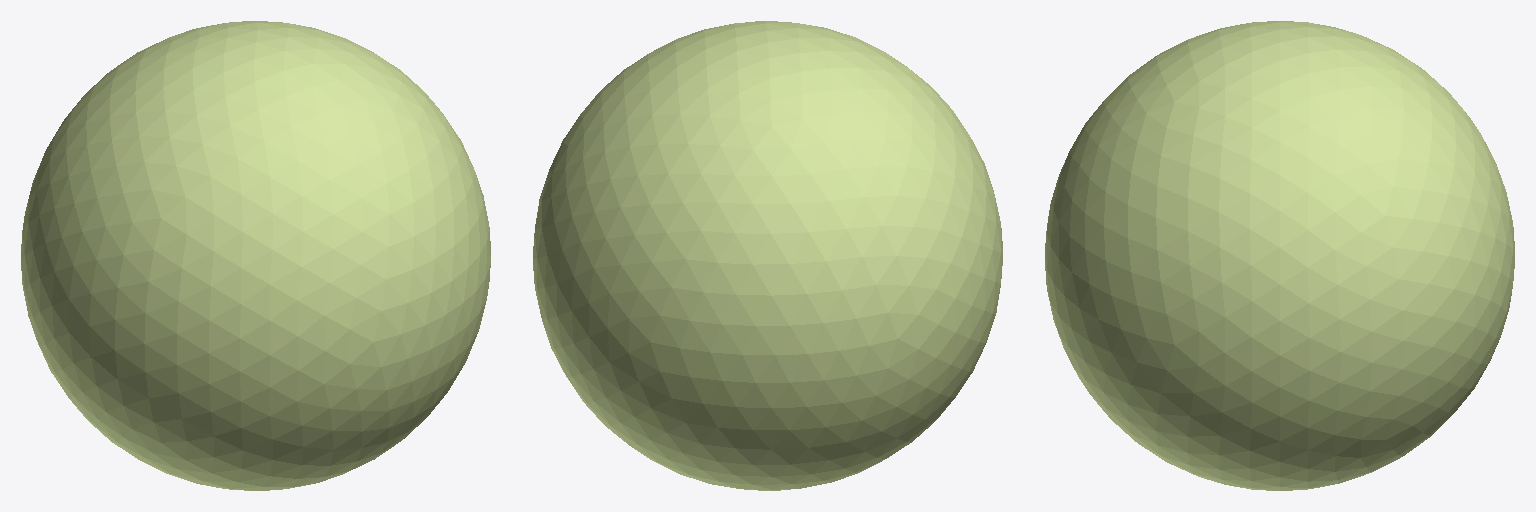
Rendered from geosphere.obj.
3 views of the same model, side by side, from view 1: azimuth 30°, elevation 25°; view 2: azimuth 150°, elevation 25°; view 3: azimuth 270°, elevation 25° (orthographic).
Visible parts, largest first — view 1: GeoSphere001; view 2: GeoSphere001; view 3: GeoSphere001.
Part boxes in pixels (left/top/right/bottom): GeoSphere001: left=21, top=21, right=490, bottom=490; GeoSphere001: left=533, top=21, right=1002, bottom=490; GeoSphere001: left=1045, top=21, right=1514, bottom=490.
Size of the model in its own units: 2 by 2 by 2.